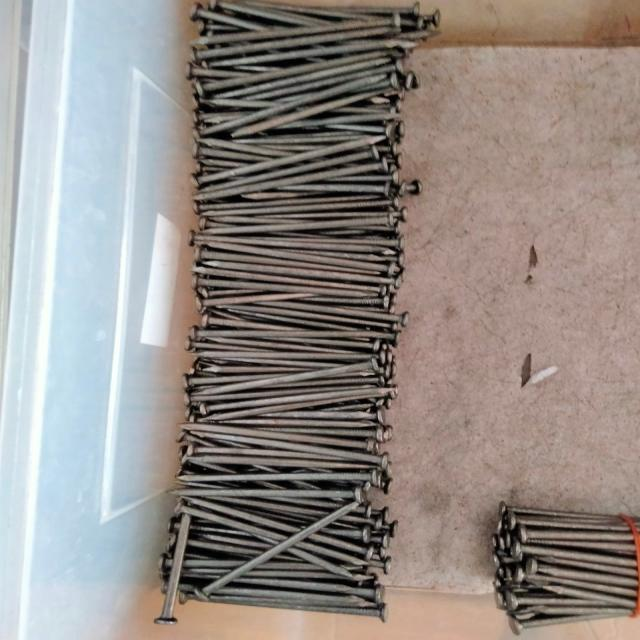3x8 nail: (164, 394, 409, 494), (182, 227, 408, 313), (150, 497, 211, 635)
